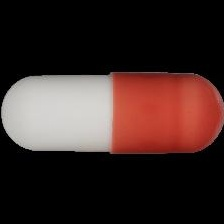0071-1019: (0, 0, 224, 224)
